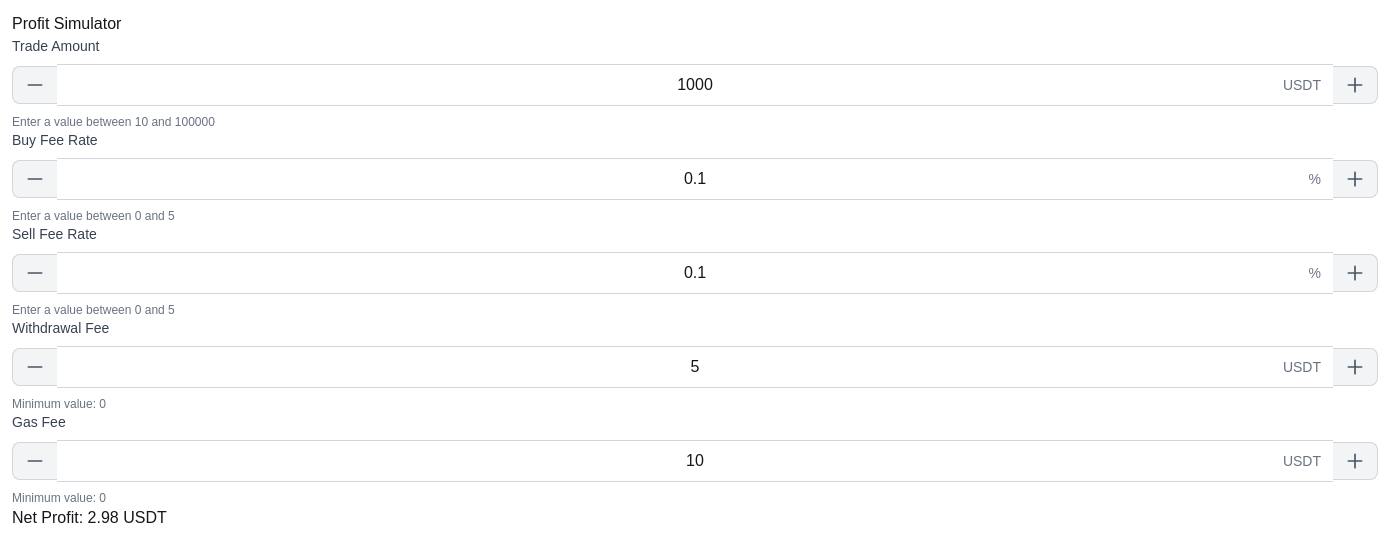
Test: AmountInput Integration Tests › Real-world Usage Scenarios › should handle rapid input changes without losing data
Rapidly change values
Replace the text in the field labelled "Trade Amount" with "1". click: (695, 85)
box: [57,64,1333,106]
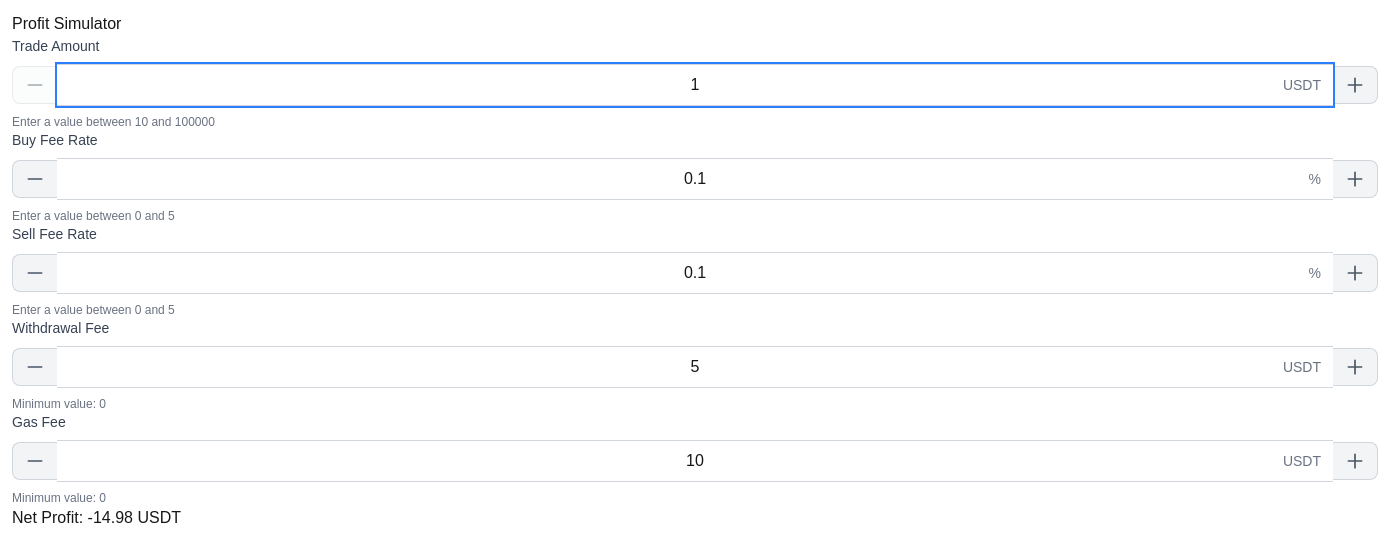
Type "2" into the field labelled "Trade Amount". click: (695, 85)
box: [57,64,1333,106]
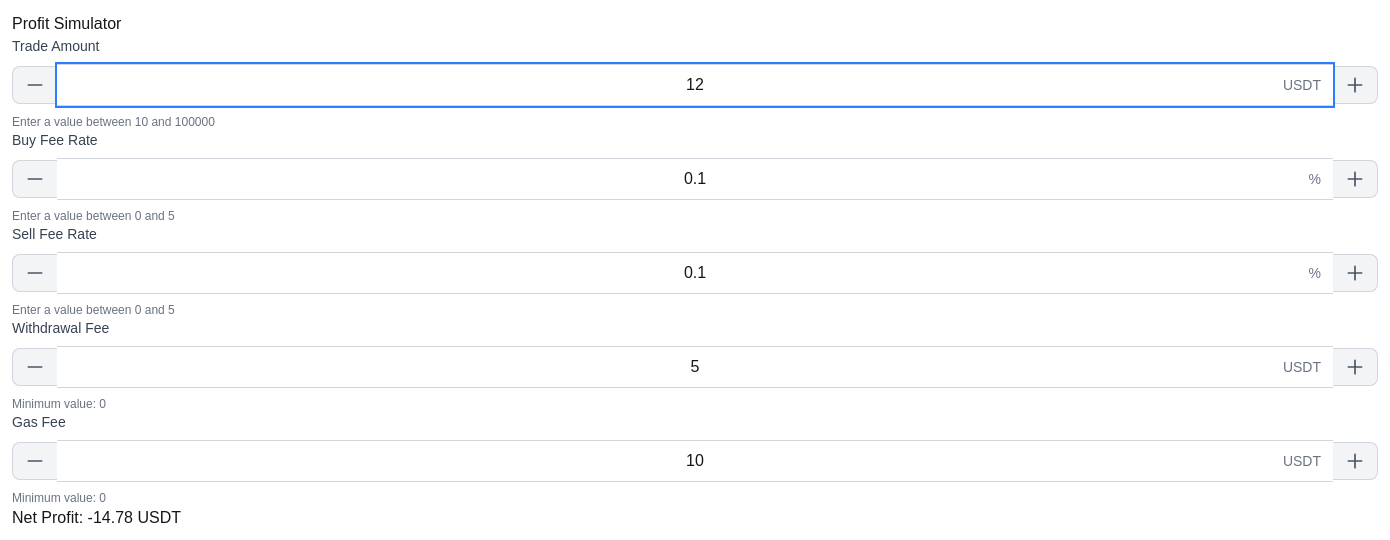
Type "3" into the field labelled "Trade Amount". click: (695, 85)
box: [57,64,1333,106]
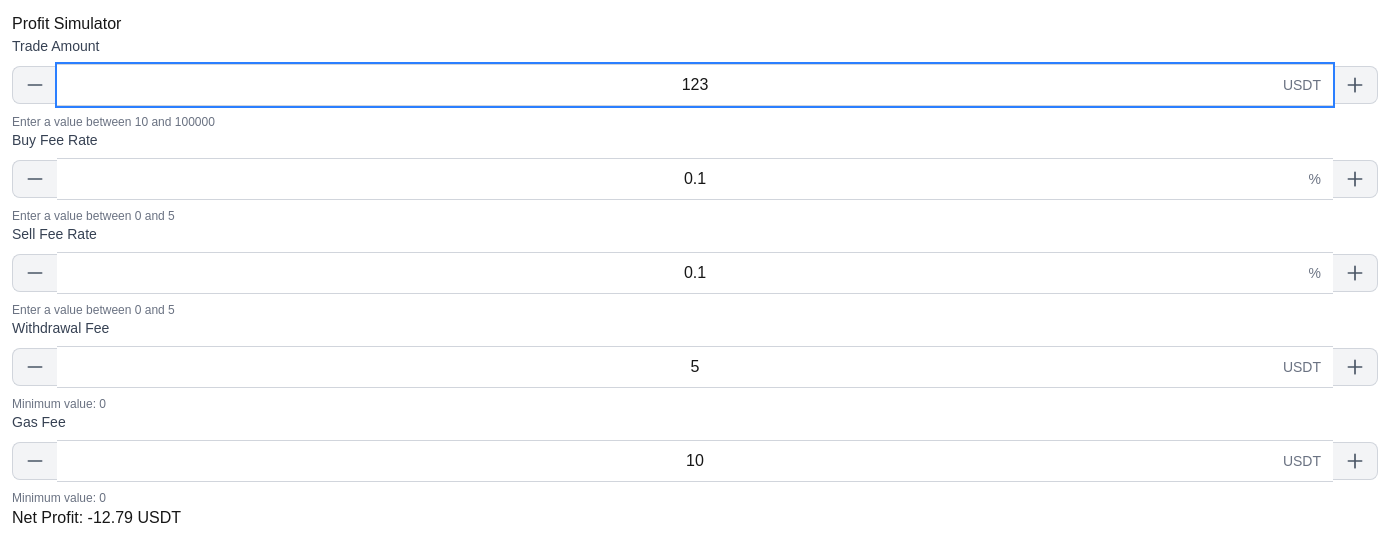
Type "4" into the field labelled "Trade Amount". click: (695, 85)
box: [57,64,1333,106]
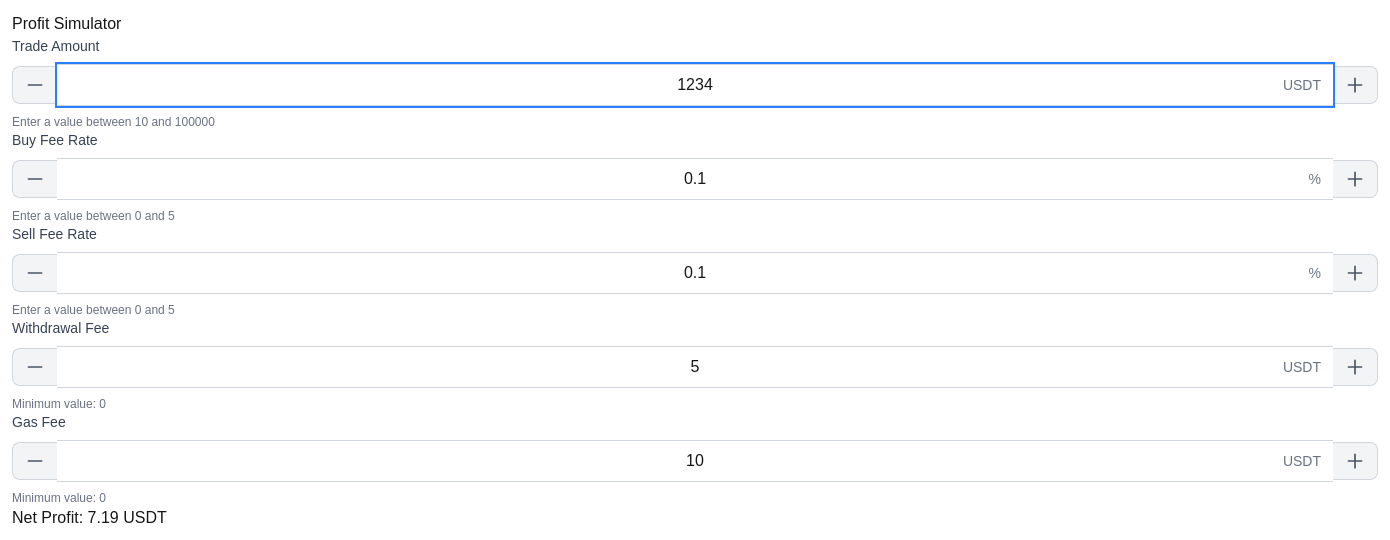
Type "5" into the field labelled "Trade Amount". click: (695, 85)
box: [57,64,1333,106]
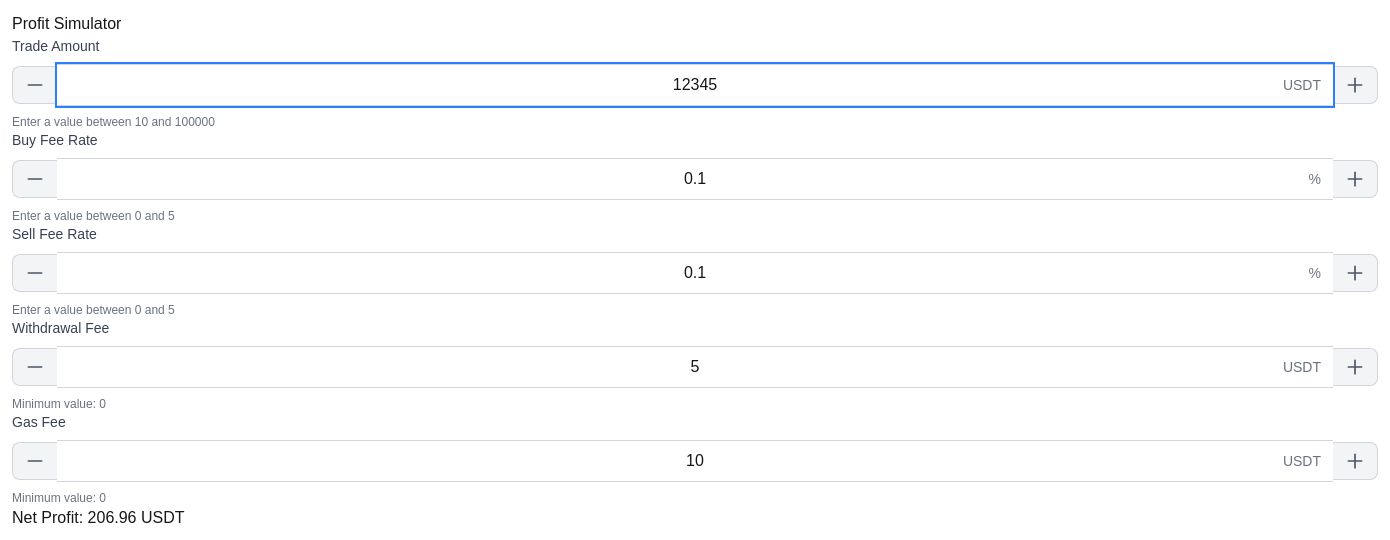
Expected: the field labelled "Trade Amount" holds "12345", [57,64,1333,106]
